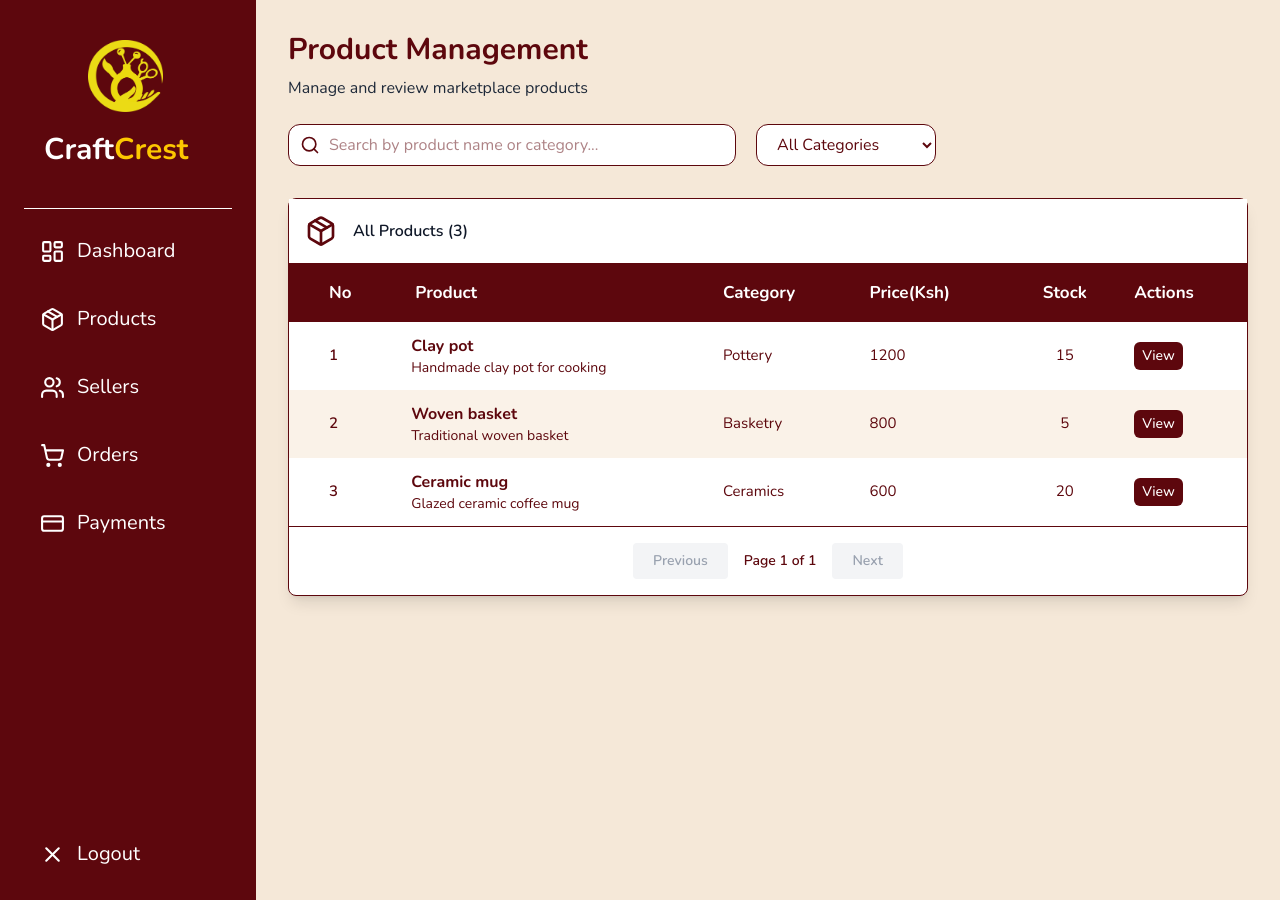
ProductManagement › displays "No products found" when filters yield no results
Type "nonexistent" into the field with placeholder "Search by product name or category..." at (512, 145), box [288, 124, 736, 166]
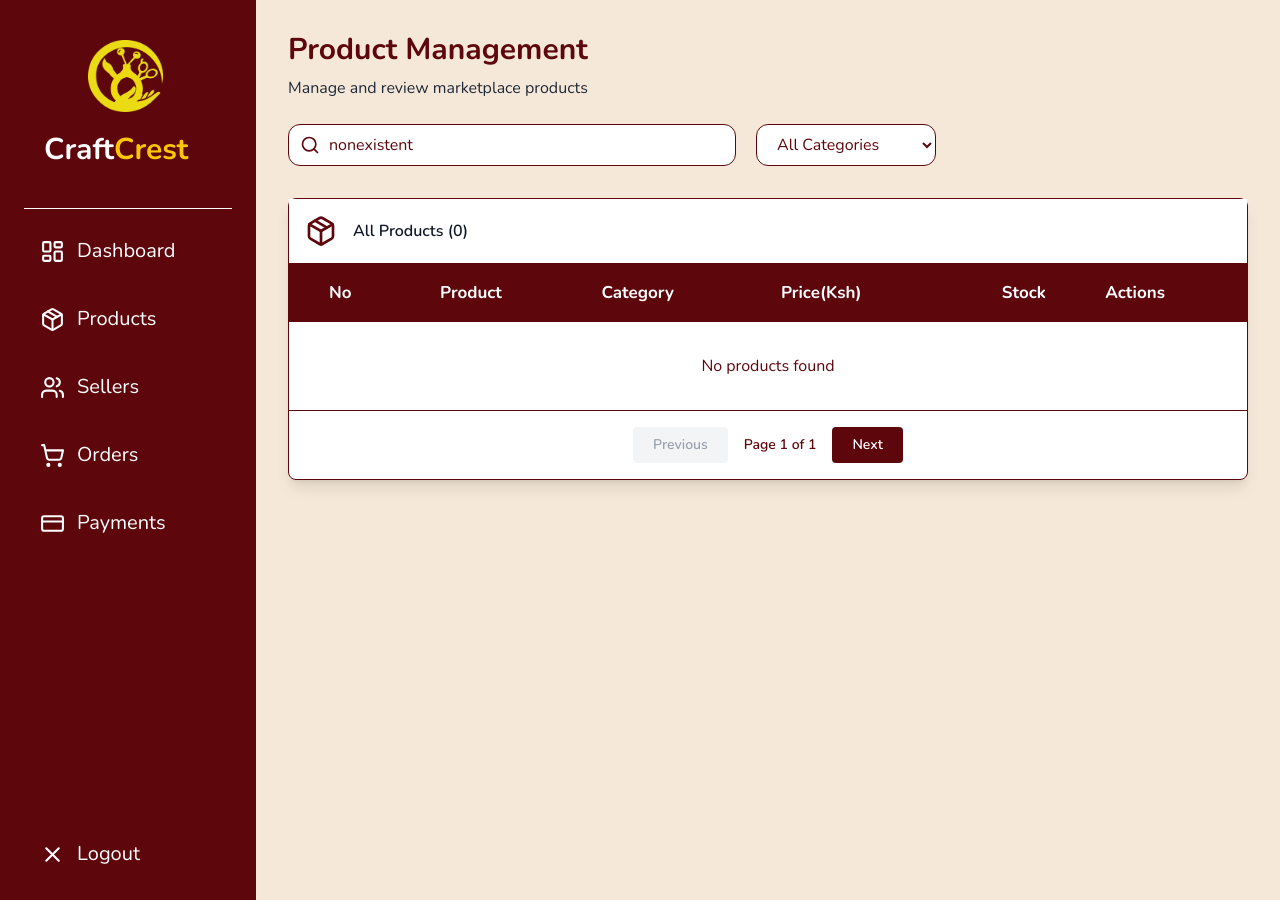
Expected: the text "No products found" is shown, [289, 322, 1247, 410]
